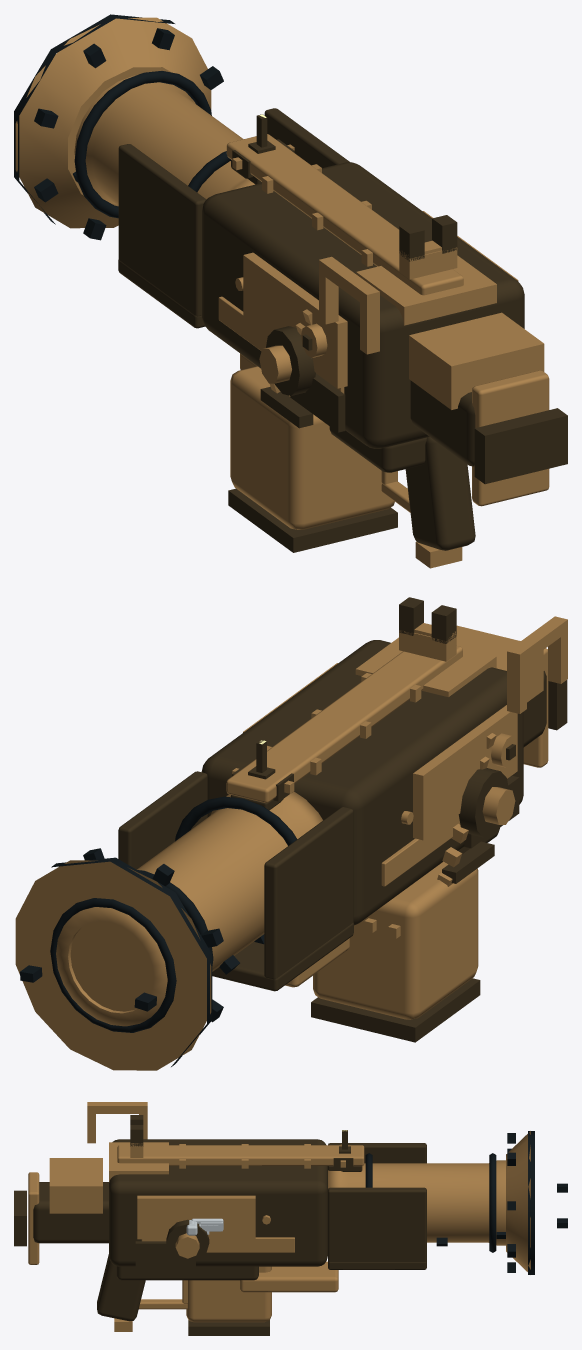
Rendered from weapon-7.glb.
The picture shows the model from 3 angles, top to bottom: view 1: azimuth 30°, elevation 25°; view 2: azimuth 150°, elevation 25°; view 3: azimuth 270°, elevation 25°; orthographic projection. The views are drawn at different scales.
Visible parts, largest first — view 1: body-dark, body-light, flak-barrel-light, feed-light, flak-barrel-cavity, feed-dark; view 2: body-dark, flak-barrel-light, body-light, feed-light, flak-barrel-cavity, feed-dark; view 3: body-dark, body-light, flak-barrel-light, feed-light, flak-barrel-cavity, feed-dark, bolt-trim.
Part boxes in pixels (x1,y1,x2,y2): body-dark: (118,108,567,550); body-light: (218,134,549,568); flak-barrel-light: (15,17,254,228); feed-light: (230,366,394,529); flak-barrel-cavity: (14,14,230,240); feed-dark: (228,488,397,552); body-dark: (118,597,567,991); flak-barrel-light: (15,791,322,1070); body-light: (226,616,567,987); feed-light: (313,861,478,1019); flak-barrel-cavity: (20,796,297,1066); feed-dark: (311,978,480,1042); body-dark: (14,1115,426,1321); body-light: (28,1102,364,1331); flak-barrel-light: (328,1131,530,1271); feed-light: (186,1266,271,1322); flak-barrel-cavity: (365,1131,567,1274); feed-dark: (188,1320,269,1335); bolt-trim: (186,1218,223,1235).
Size of the model in its own units: 0.4 by 0.5405 by 1.29.
